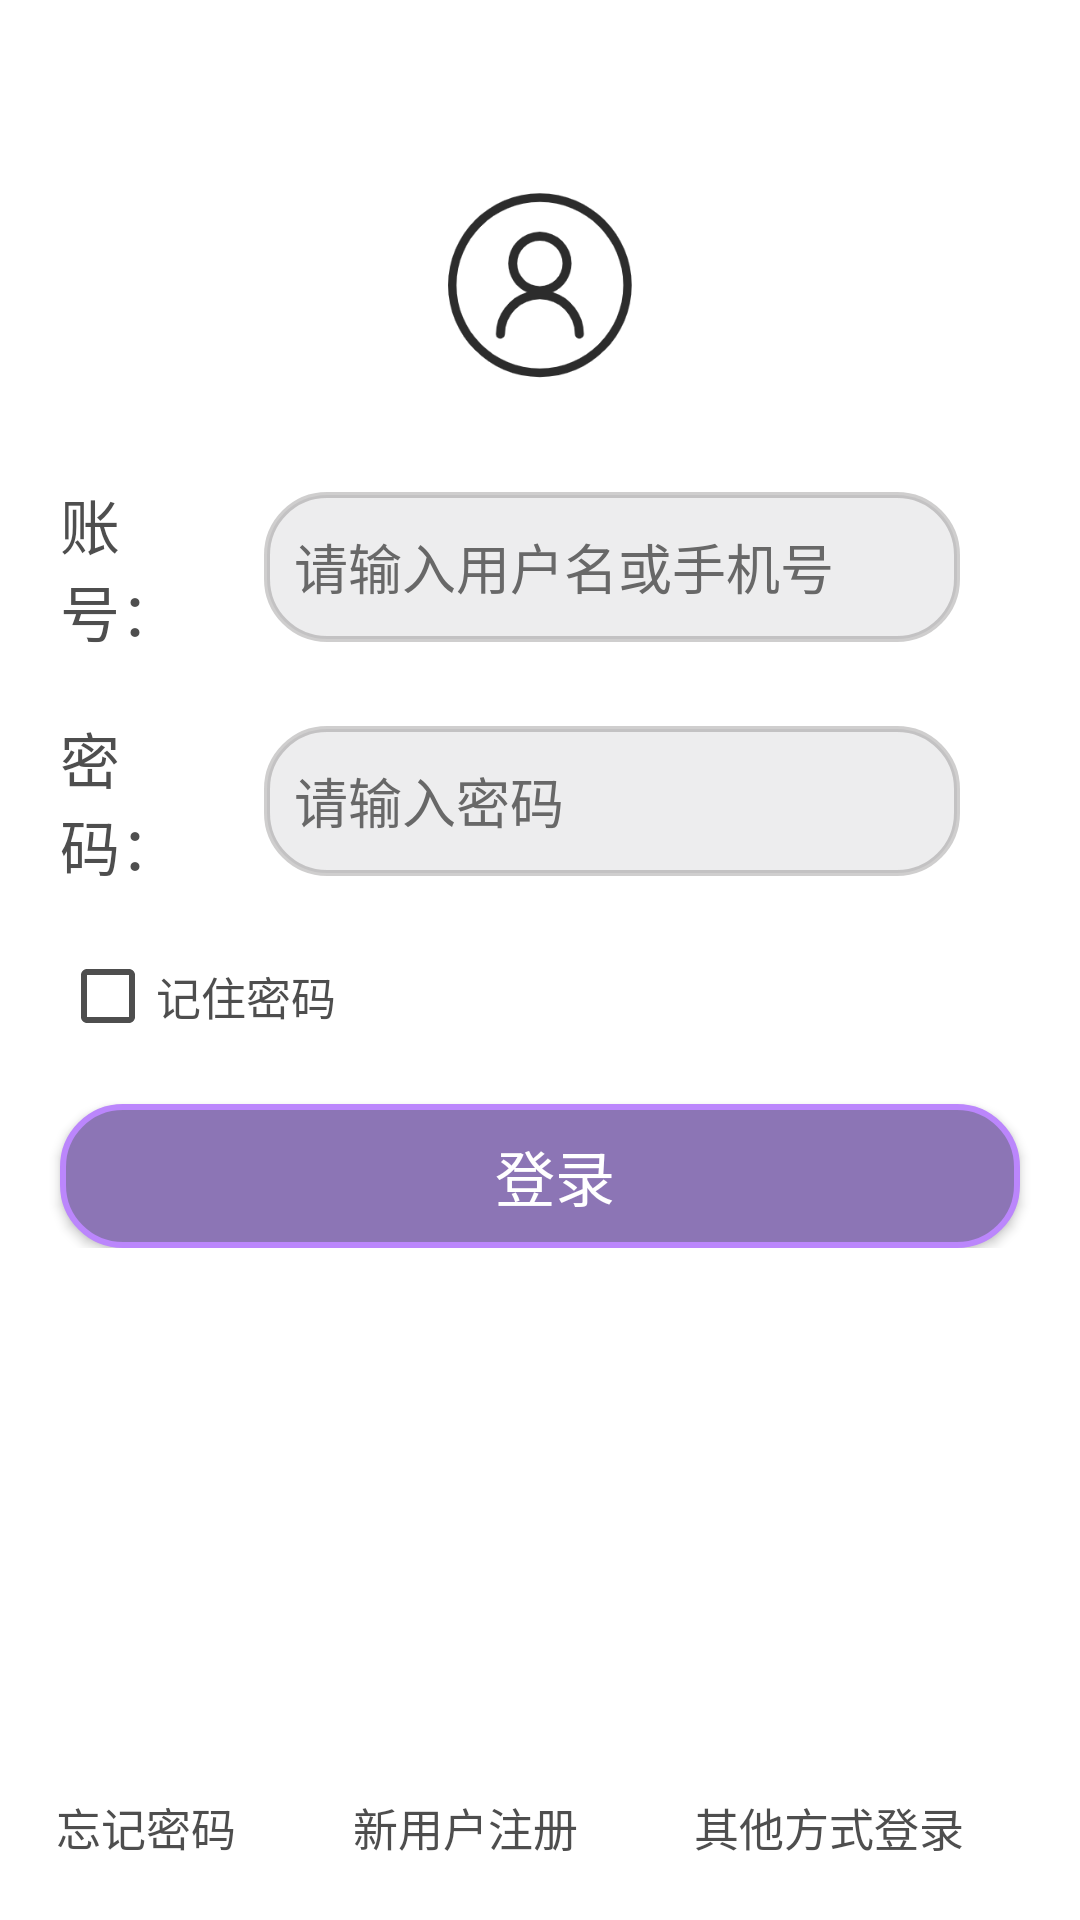

Screen size 1080×1920. Icon name, then its center in pixels as (x=x, y=y):
touxiang: (x=540, y=285)
